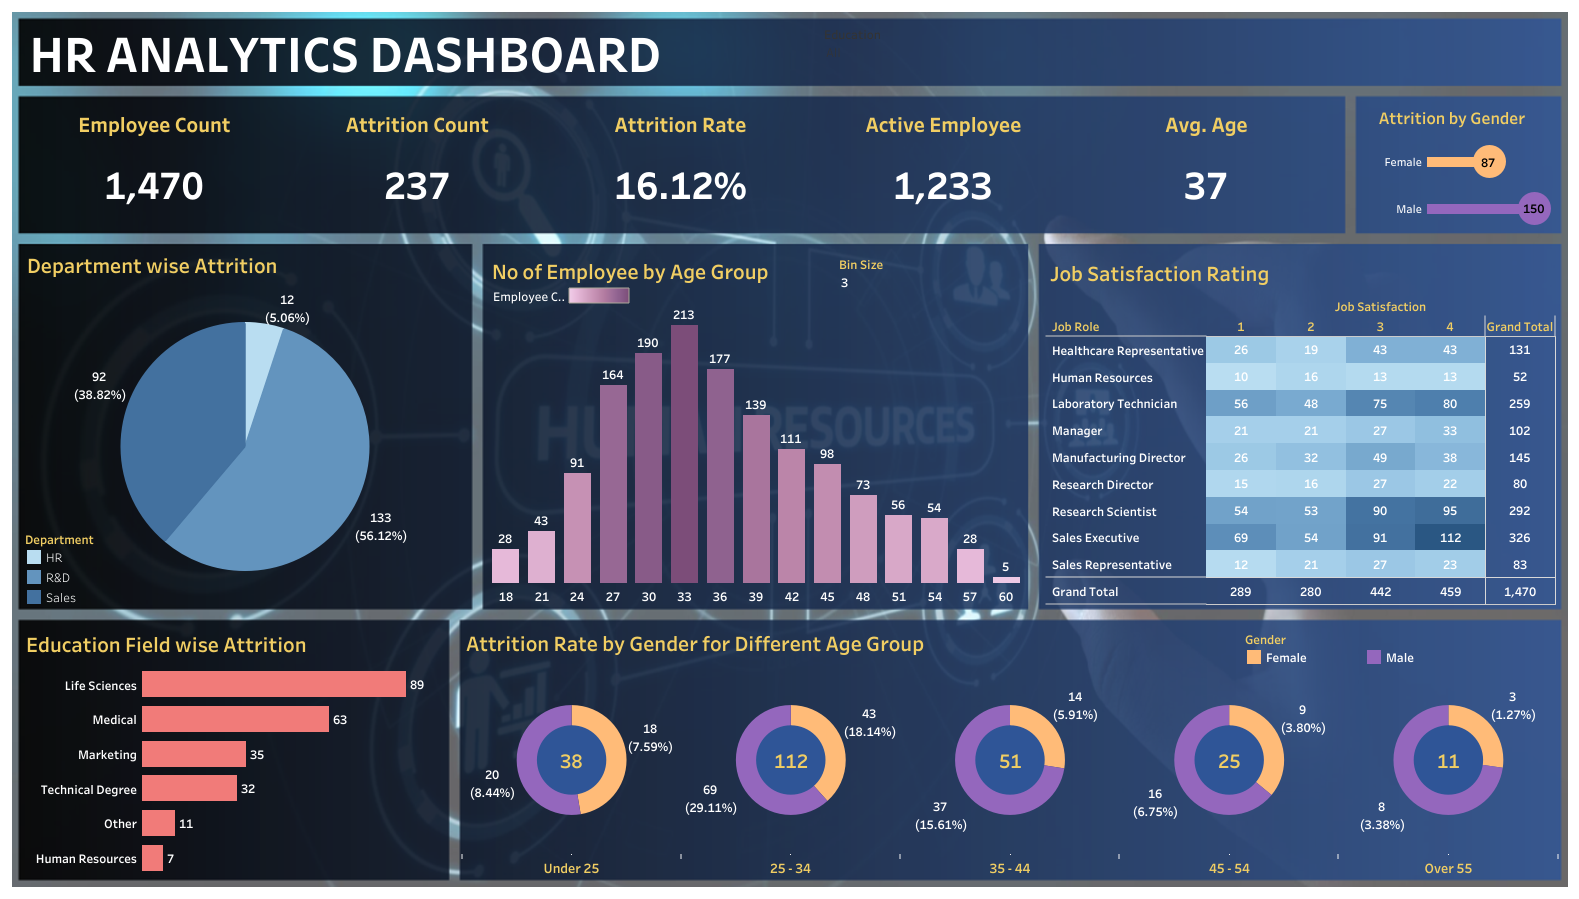

The page's visual inventory and layout, read from the dashboard file:
{"tool":"tableau","page":{"name":"HR ANALYTICS DASHBOARD","canvas":[1580,900],"ordinal":0},"visuals":[{"type":"image","param":"Image/HR background.pptx.png","box":[8,8,1564,884]},{"type":"filter","title":"Department wise Attrition","param":"[federated.02kqr8y15a800d13k4t1v1l1qidc].[none:Education:nk]","box":[824,24,160,60]},{"type":"text","box":[27,26,855,52]},{"type":"worksheet","title":"KPI","mark":"Automatic","box":[23,98,1315,132]},{"type":"worksheet","title":"Attrition by Gender","mark":"Automatic","rows":["Gender"],"cols":["Calculation_407012870103183360","Calculation_407012870103183360"],"box":[1347,100,210,132]},{"type":"worksheet","title":"Department wise Attrition","mark":"Pie","box":[23,245,444,360]},{"type":"worksheet","title":"No of Employee by Age Group","mark":"Automatic","rows":["Employee Count"],"cols":["Age (bin)"],"box":[488,251,536,354]},{"type":"worksheet","title":"Job Satisfaction Rating","mark":"Square","rows":["Job Role"],"cols":["Job Satisfaction"],"box":[1046,253,510,352]},{"type":"parameter","param":"[Parameters].[Parameter 1]","box":[839,254,182,43]},{"type":"legend","title":"No of Employee by Age Group","param":"[federated.02kqr8y15a800d13k4t1v1l1qidc].[sum:Employee Count:qk]","box":[493,284,141,24]},{"type":"legend","title":"Department wise Attrition","param":"[federated.02kqr8y15a800d13k4t1v1l1qidc].[none:Department:nk]","box":[24,528,86,78]},{"type":"worksheet","title":"Attrition Rate by Gender for Different Age Group","mark":"Pie","rows":["Calculation_513691886473076737","Calculation_513691886473138179"],"cols":["CF_age band"],"box":[462,623,1096,254]},{"type":"worksheet","title":"Education Field wise Attrition","mark":"Automatic","rows":["Education Field"],"cols":["Calculation_407012870103183360"],"box":[22,624,422,251]},{"type":"legend","title":"Attrition Rate by Gender for Different Age Group","param":"[federated.02kqr8y15a800d13k4t1v1l1qidc].[none:Gender:nk]","box":[1244,628,257,47]}]}

Visuals, with their boxes in screenshot pixels (x1, y1, x2, y2), scaled from the page's 1580x900 canvas onto the 1579x899 screenshot:
image: (8, 8, 1571, 891)
"Department wise Attrition" filter: (823, 24, 983, 84)
text: (27, 26, 881, 78)
"KPI" worksheet: (23, 98, 1337, 230)
"Attrition by Gender" worksheet: (1346, 100, 1556, 232)
"Department wise Attrition" worksheet (Pie marks): (23, 245, 467, 604)
"No of Employee by Age Group" worksheet: (488, 251, 1023, 604)
"Job Satisfaction Rating" worksheet (Square marks): (1045, 253, 1555, 604)
parameter: (838, 254, 1020, 297)
"No of Employee by Age Group" legend: (493, 284, 634, 308)
"Department wise Attrition" legend: (24, 527, 110, 605)
"Attrition Rate by Gender for Different Age Group" worksheet (Pie marks): (462, 622, 1557, 876)
"Education Field wise Attrition" worksheet: (22, 623, 444, 874)
"Attrition Rate by Gender for Different Age Group" legend: (1243, 627, 1500, 674)
